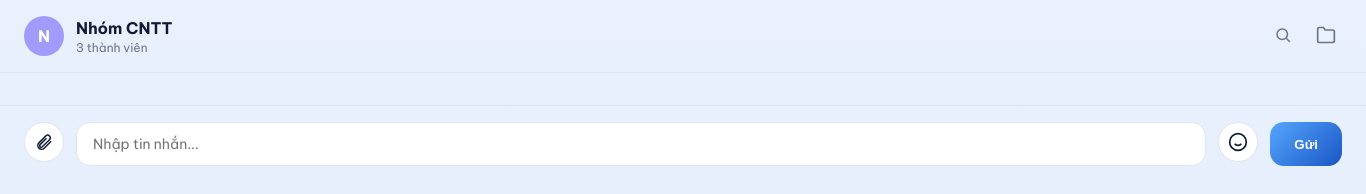
Test case: KhungTinNhan › khong tim thay tin sau khi tai het lich su thi hien thong bao
Click the button named "Tìm tin nhắn" at (1283, 36), box [1268, 20, 1298, 52]
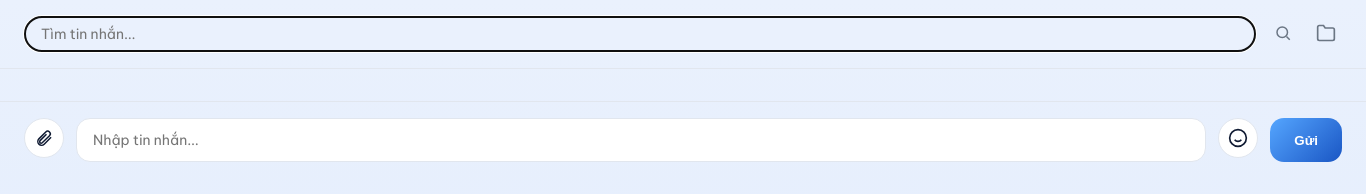
Type "xin" into the field with placeholder "Tìm tin nhắn..." at (640, 34), box [24, 16, 1256, 52]
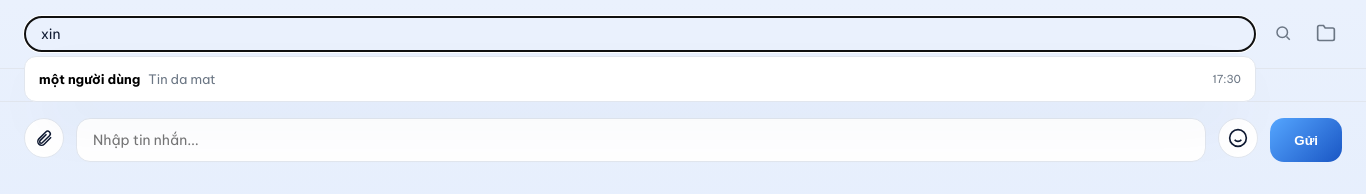
Click the button with test id "ket-qua-tim-m-mat" at (90, 79), box [31, 63, 1249, 95]
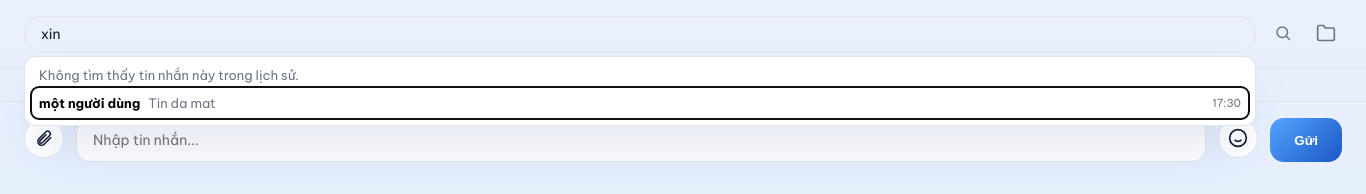
Now the text "Không tìm thấy tin nhắn này trong lịch sử." is shown, box [39, 67, 299, 83]
